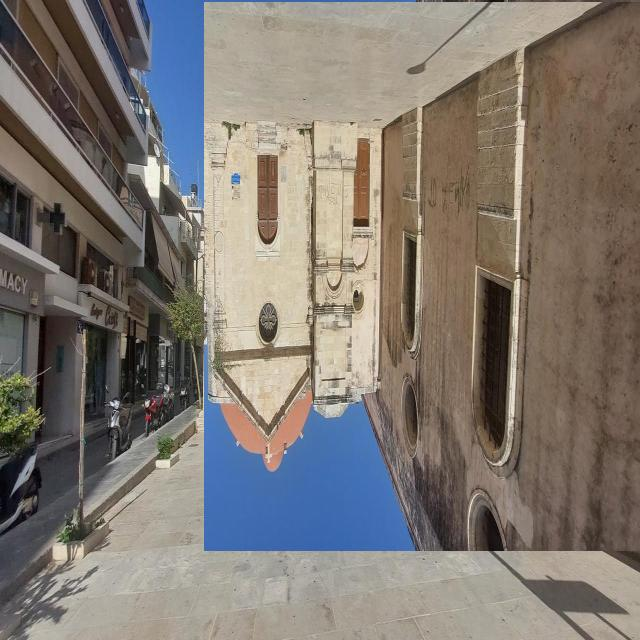Agia Aikaterini: (205, 3, 640, 552)
